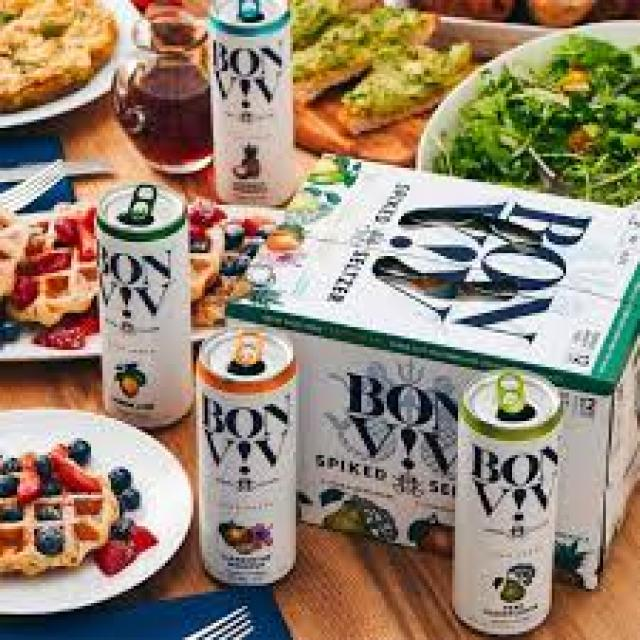Cans: (449, 364, 572, 637), (191, 322, 310, 592), (88, 176, 196, 421), (194, 3, 298, 205)
